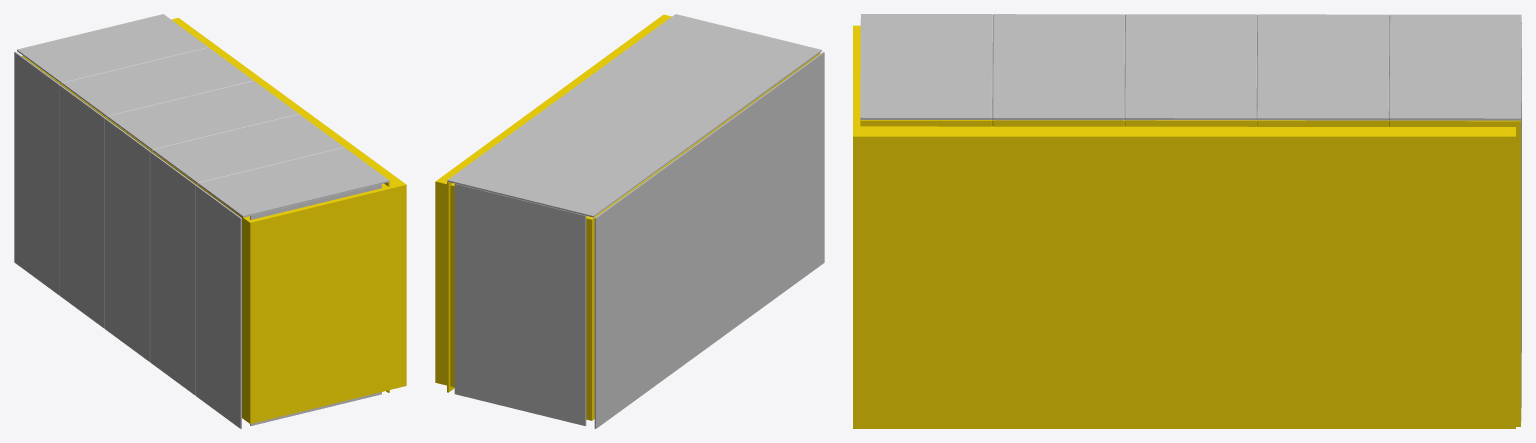
File: bus3.glb
The picture shows the model from 3 angles, left to right: view 1: azimuth 30°, elevation 25°; view 2: azimuth 150°, elevation 25°; view 3: azimuth 270°, elevation 25°; orthographic projection. The views are drawn at different scales.
Parts seen in each view (by area): view 1: Box023, Cube, Box020, Box019; view 2: Box023, Box020, Box019, Cube, Box023.002; view 3: Cube, Box020, Box023.002.
Boxes of the visible parts, x1=… form: Box023: x1=14, y1=51, x2=241, y2=428; Cube: x1=22, y1=18, x2=406, y2=423; Box020: x1=17, y1=14, x2=389, y2=217; Box019: x1=250, y1=184, x2=381, y2=425; Box023: x1=594, y1=52, x2=824, y2=428; Box020: x1=447, y1=14, x2=821, y2=217; Box019: x1=454, y1=183, x2=586, y2=426; Cube: x1=435, y1=14, x2=820, y2=420; Box023.002: x1=447, y1=182, x2=454, y2=392; Cube: x1=853, y1=25, x2=1515, y2=428; Box020: x1=860, y1=14, x2=1521, y2=120; Box023.002: x1=860, y1=120, x2=1520, y2=426.
Size of the model in its own units: 170 by 211 by 415.
Materials: 4 (2 with a texture image).
